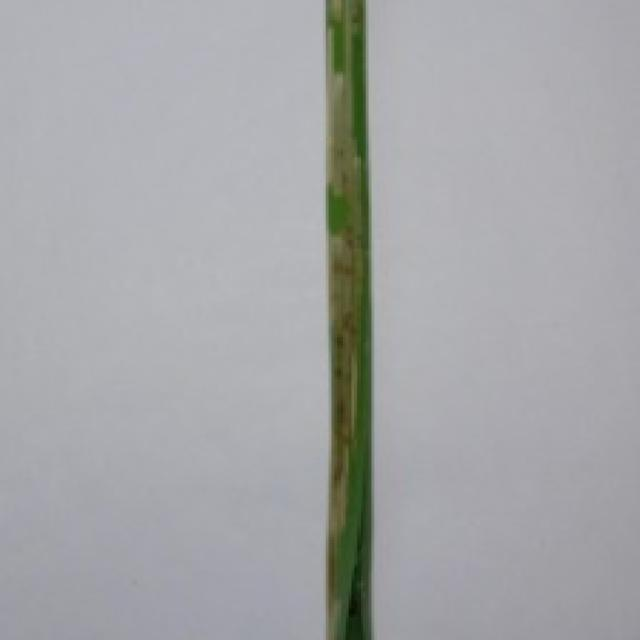Bacterial_Blight: (321, 0, 371, 634), (322, 0, 359, 204)
